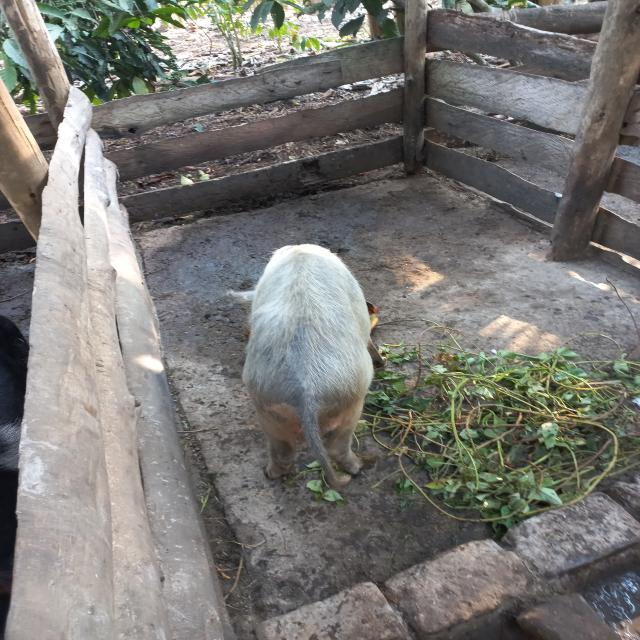pig: (187, 208, 433, 508)
